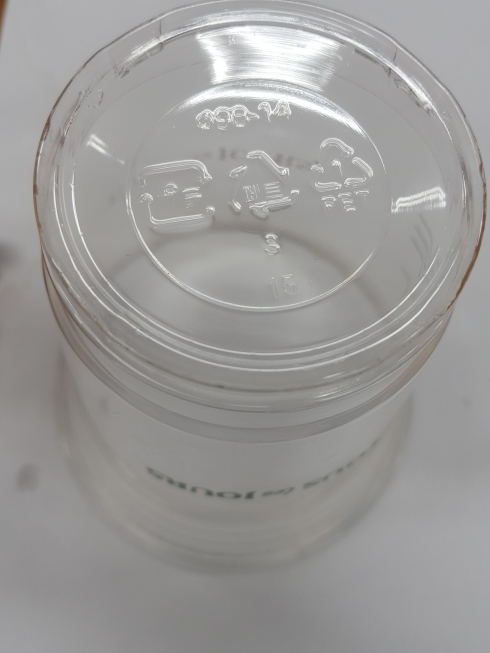recycle: (303, 126, 381, 218)
